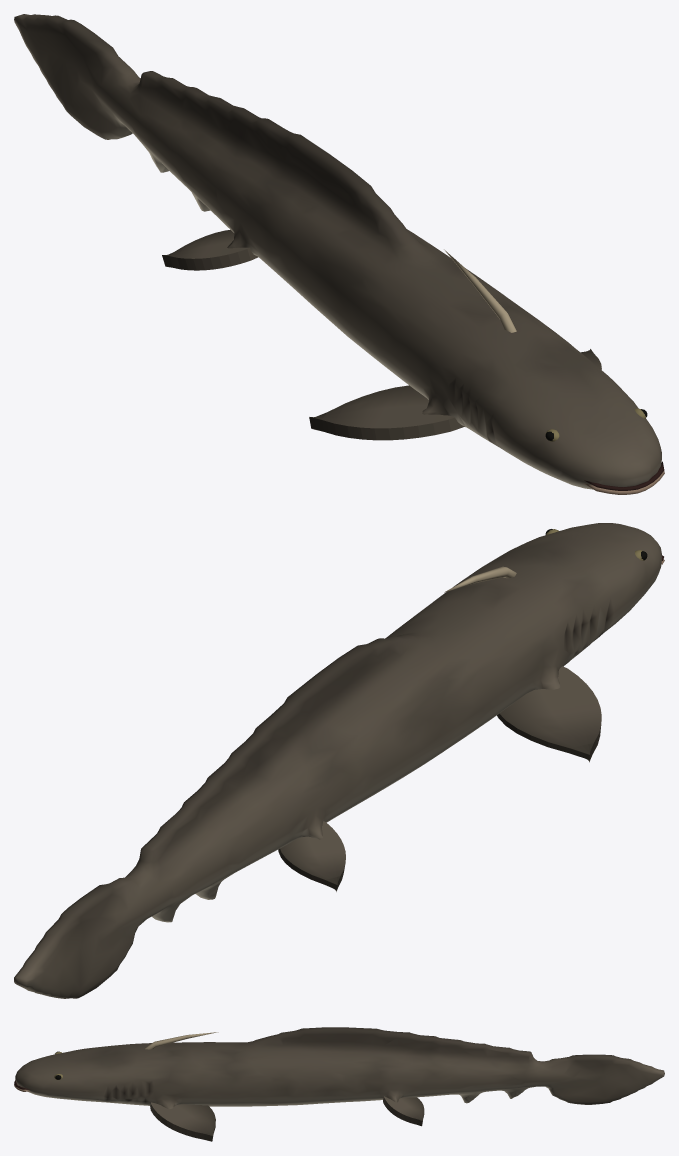
Rendered from Bransonella.fbx.
3 renders of one model, top to bottom at view 1: azimuth 30°, elevation 25°; view 2: azimuth 150°, elevation 25°; view 3: azimuth 270°, elevation 25°, orthographic. The views are drawn at different scales.
Visible parts, largest first — view 1: Bransonella; view 2: Bransonella; view 3: Bransonella.
Boxes of the visible parts, <box> form: Bransonella: <box>14,14,664,494</box>; Bransonella: <box>14,523,664,998</box>; Bransonella: <box>14,1027,664,1141</box>.
Size of the model in its own units: 0.532 by 0.2694 by 2.03.
